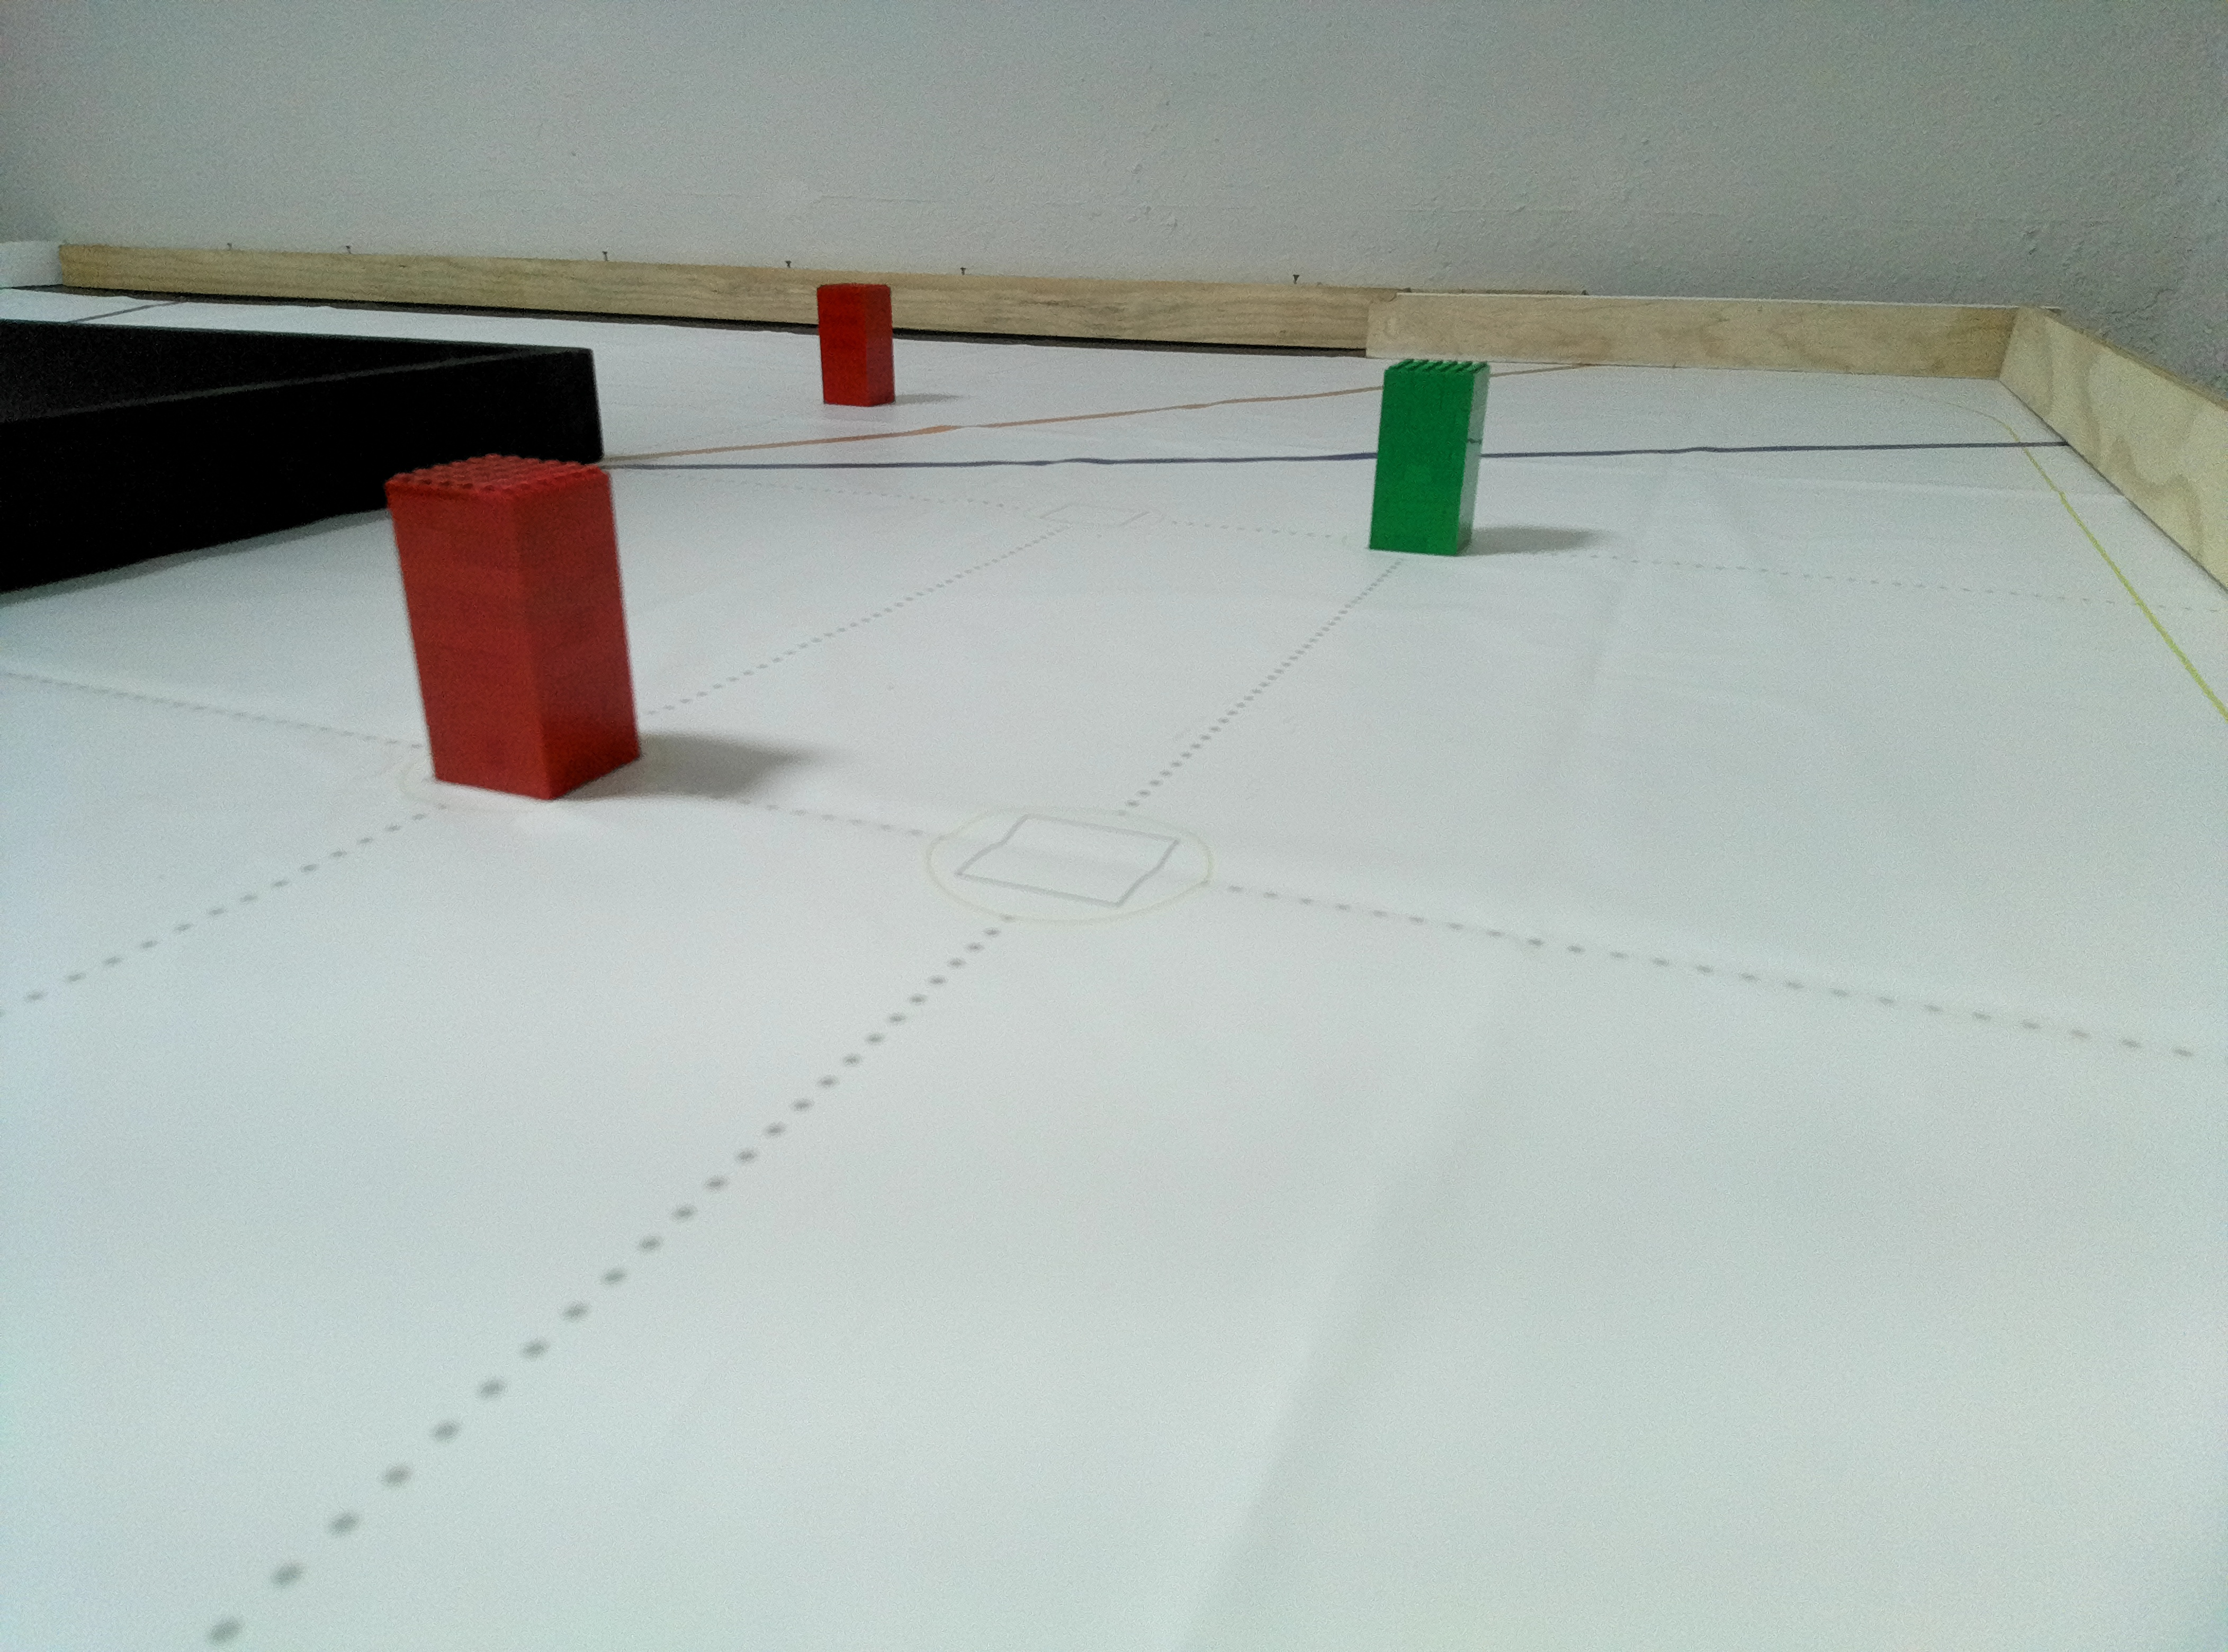greenbox: (1366, 357, 1496, 560)
redbox: (380, 446, 649, 803), (816, 279, 897, 410)
